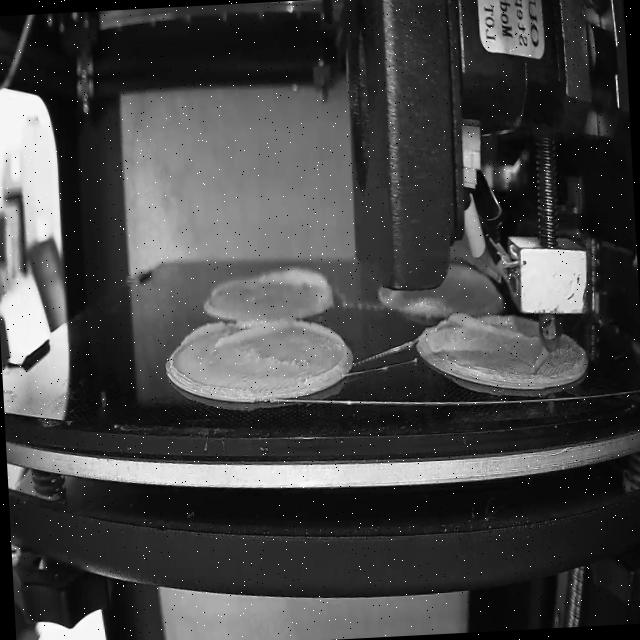over_extrusion: (292, 316, 351, 389), (176, 318, 291, 352), (256, 264, 334, 312), (446, 311, 540, 350), (532, 352, 548, 371)
